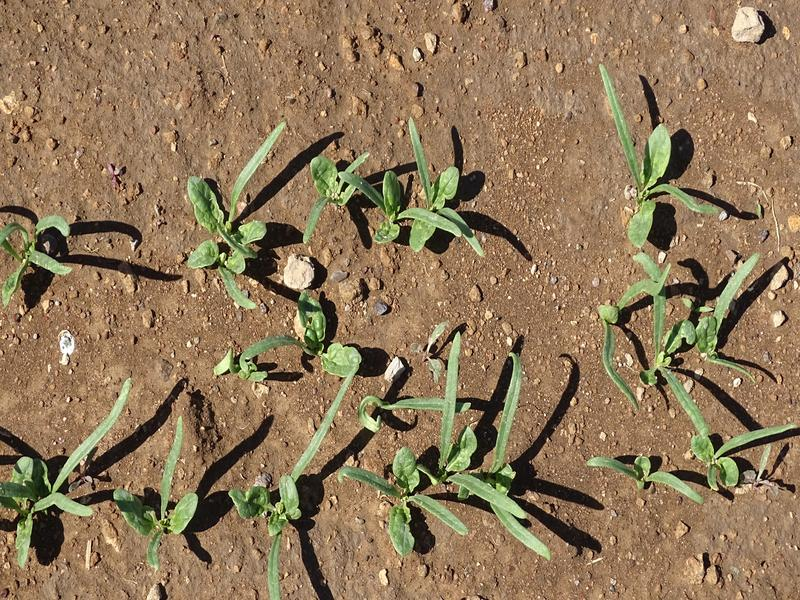Espinaca: (588, 253, 796, 504), (372, 354, 557, 559), (222, 373, 360, 585), (596, 61, 733, 242), (296, 136, 486, 259), (154, 128, 276, 314), (7, 379, 117, 566), (113, 413, 197, 565), (248, 311, 362, 377), (1, 209, 76, 295)
